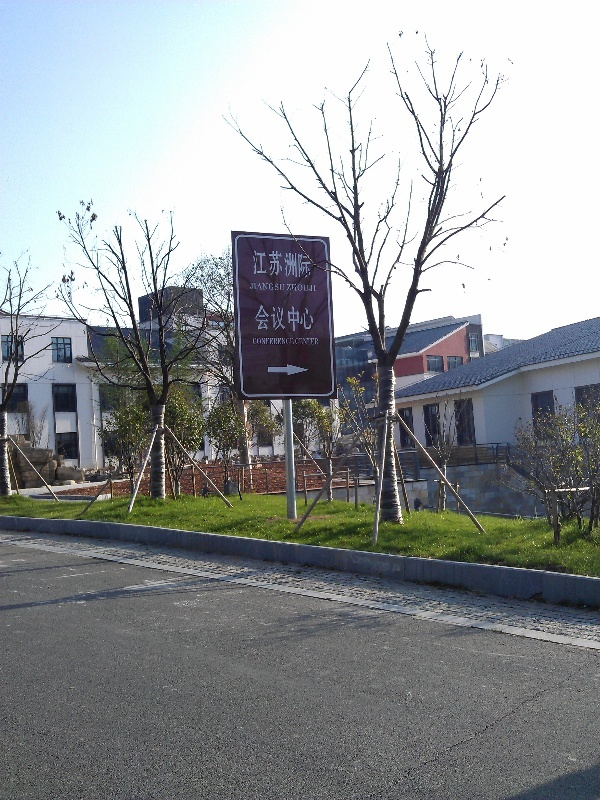text: (257, 250, 272, 279), (273, 250, 288, 279), (289, 250, 304, 279), (257, 305, 272, 332), (273, 305, 288, 332), (289, 305, 304, 332), (305, 305, 315, 332), (305, 250, 312, 279), (257, 283, 272, 291), (257, 338, 272, 346), (273, 338, 288, 346), (289, 284, 304, 292), (252, 250, 256, 279), (305, 338, 319, 345), (273, 283, 285, 291), (305, 284, 317, 292), (295, 338, 304, 345), (254, 305, 256, 332), (250, 283, 256, 291), (289, 338, 294, 346), (252, 338, 256, 346), (287, 284, 288, 292)
